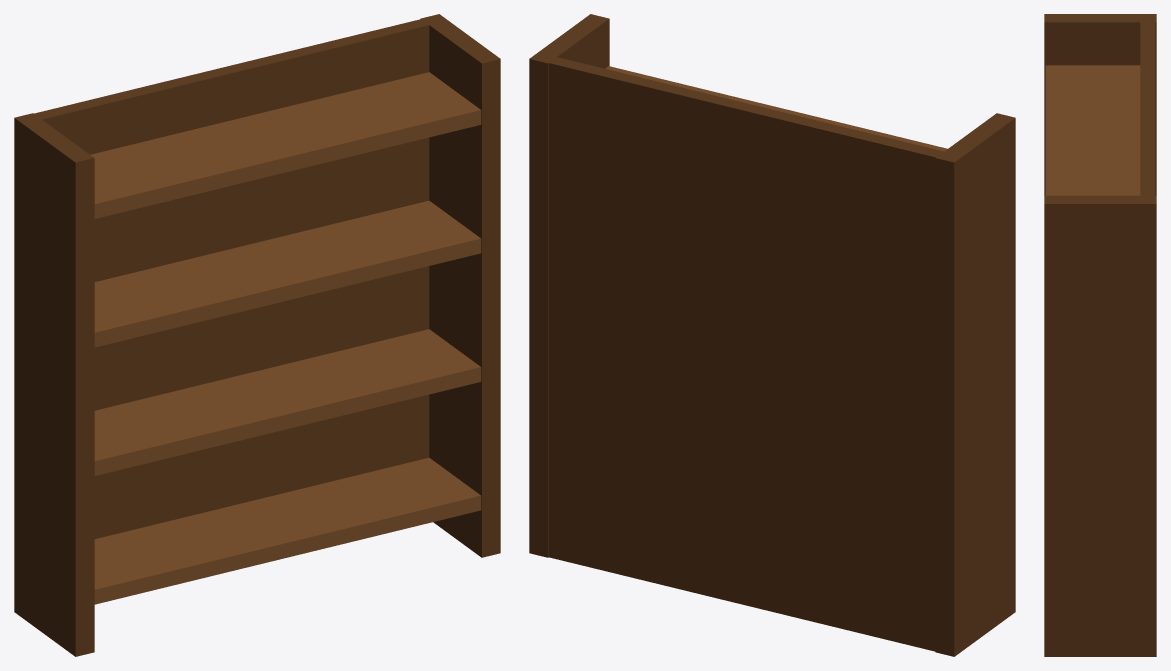
Rendered from mod_shelf.glb.
The picture shows the model from 3 angles, left to right: view 1: azimuth 30°, elevation 25°; view 2: azimuth 150°, elevation 25°; view 3: azimuth 270°, elevation 25°; orthographic projection. The views are drawn at different scales.
Parts seen in each view (by area): view 1: Mod_Shelf; view 2: Mod_Shelf; view 3: Mod_Shelf.
Part boxes in pixels (x1,y1,x2,y2): Mod_Shelf: (14, 14, 500, 656); Mod_Shelf: (529, 14, 1015, 656); Mod_Shelf: (1044, 14, 1156, 656).
Bounding box in the file's own units: 1.8 × 2 × 0.45.
